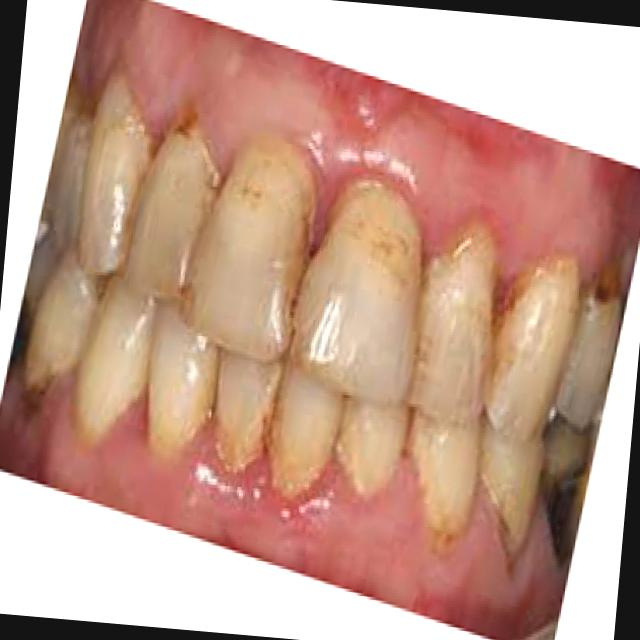calculus: (286, 162, 436, 388), (473, 233, 586, 440), (121, 106, 227, 306), (571, 243, 633, 418), (205, 356, 280, 478)
